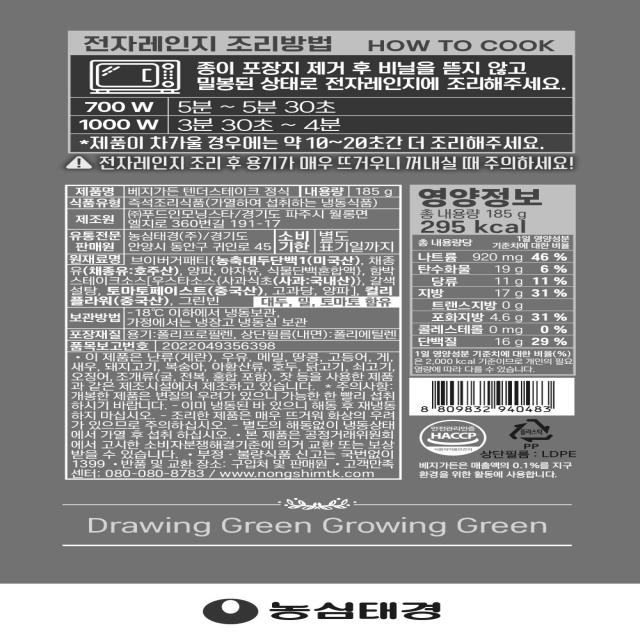Nutrition Label: (408, 178, 587, 378)
